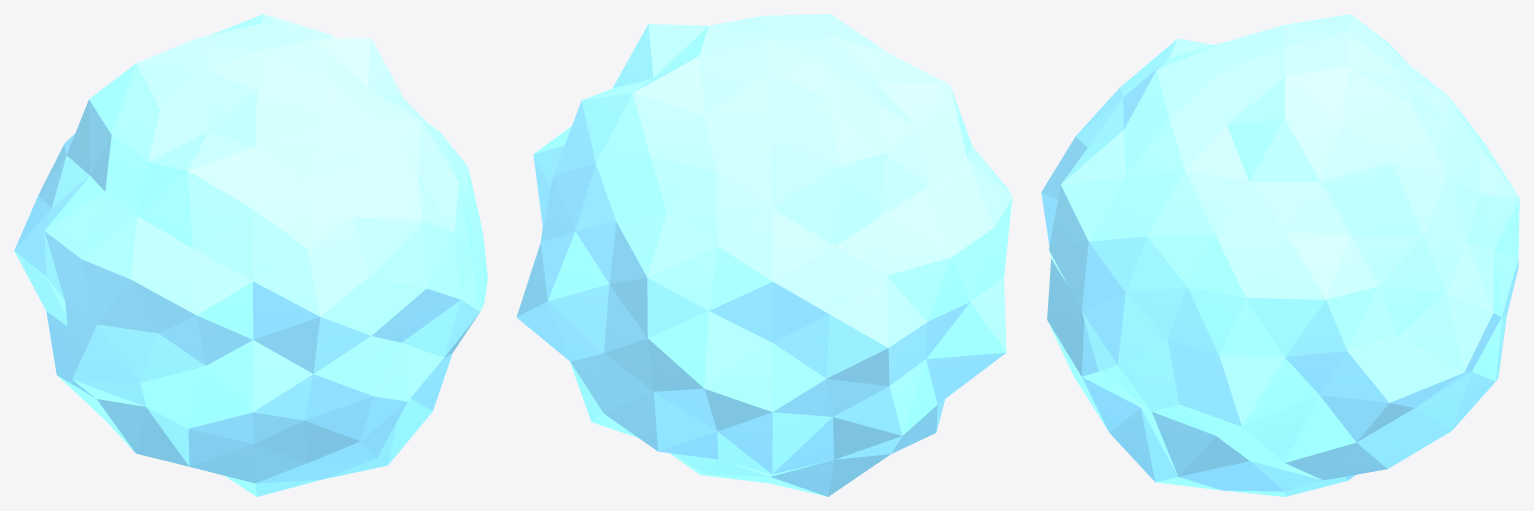
Rendered from onda.glb.
The picture shows the model from 3 angles, left to right: view 1: azimuth 30°, elevation 25°; view 2: azimuth 150°, elevation 25°; view 3: azimuth 270°, elevation 25°; orthographic projection. The views are drawn at different scales.
Parts seen in each view (by area): view 1: outer_onda; view 2: outer_onda; view 3: outer_onda.
Boxes of the visible parts, x1,y1,x2,y2 form: outer_onda: [14, 14, 487, 496]; outer_onda: [516, 14, 1012, 496]; outer_onda: [1041, 14, 1519, 496].
Size of the model in its own units: 5.35 by 5.1 by 5.12.
